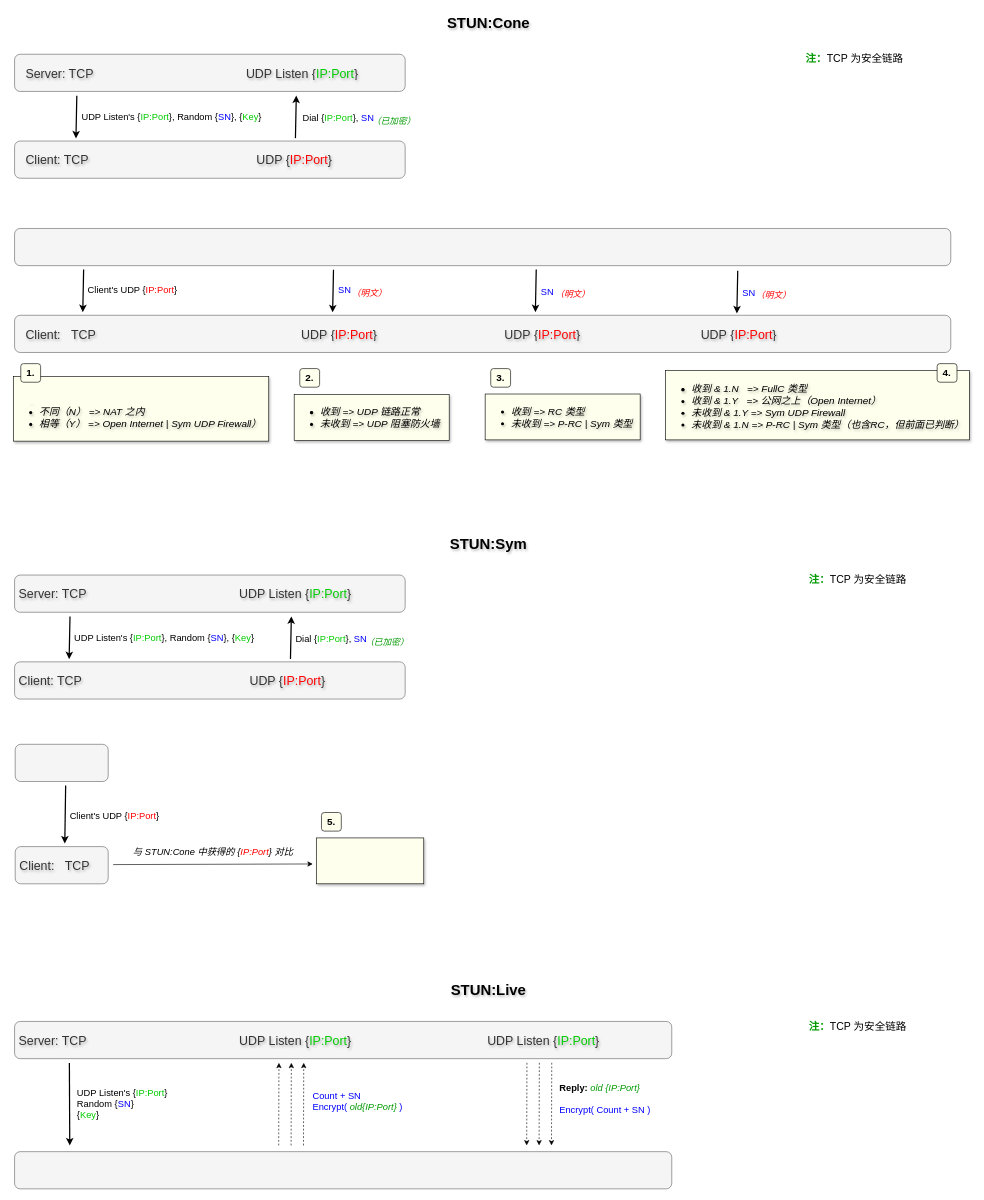
Image size: 984x1200. Some labels were removed from this diagram. The shapes that lost their labels are listed below. From the top down, each one's centre as x and y in pixels, then its label:
At point 482,247: "Server: TCP UDP Listen UDP New Port UDP New Host".
At point 68,394: "== LocalAddr ?".
At point 61,763: "Server: TCP".
At point 370,861: "相同 => P-RC 不同 => Sym".
At point 343,1170: "Client: TCP UDP New{ IP:Port } UDP Listen { New , Old }".
